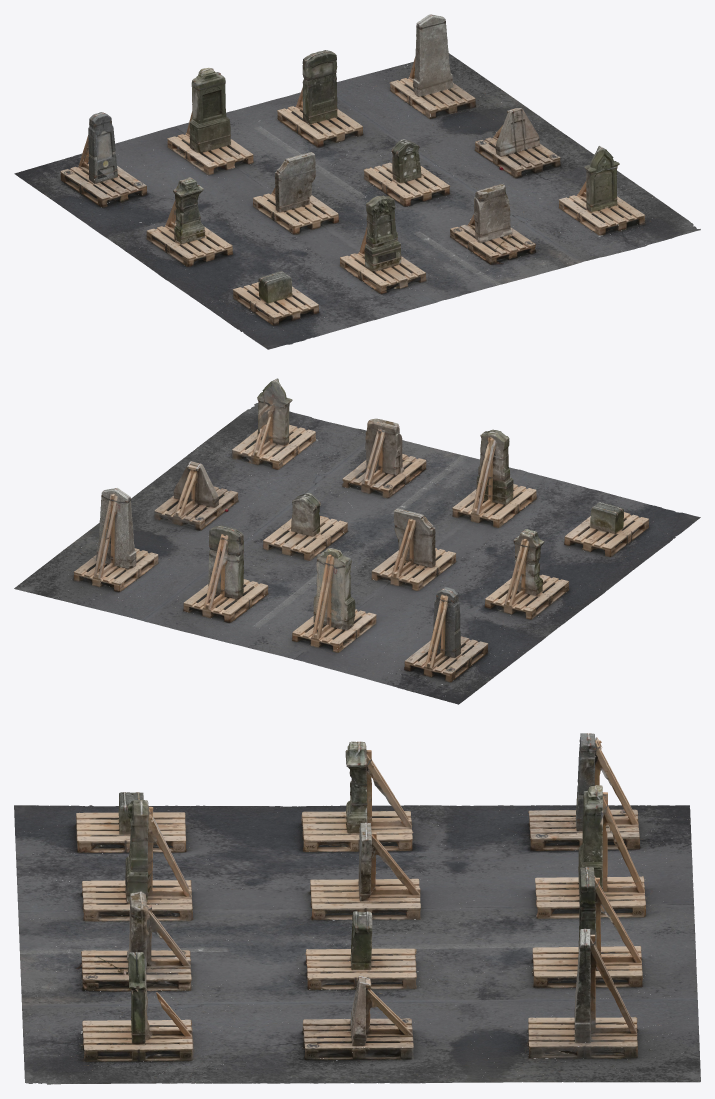
Rendered from sf-the-street-cemetery-055b00.glb.
The picture shows the model from 3 angles, top to bottom: view 1: azimuth 30°, elevation 25°; view 2: azimuth 150°, elevation 25°; view 3: azimuth 270°, elevation 25°; orthographic projection. The views are drawn at different scales.
Parts seen in each view (by area): view 1: Model_material0_0, Model_material1_0, Model_material2_0; view 2: Model_material0_0, Model_material1_0, Model_material2_0; view 3: Model_material0_0, Model_material2_0, Model_material1_0.
Part boxes in pixels (<box>): Model_material0_0: <box>36,54,675,338</box>; Model_material1_0: <box>60,14,653,349</box>; Model_material2_0: <box>14,21,700,320</box>; Model_material0_0: <box>48,378,672,698</box>; Model_material1_0: <box>65,423,700,685</box>; Model_material2_0: <box>14,403,648,704</box>; Model_material0_0: <box>15,733,699,1083</box>; Model_material2_0: <box>16,733,700,1084</box>; Model_material1_0: <box>14,742,698,1083</box>.
Size of the model in its own units: 8.35 by 1.69 by 8.17.
Materials: 3 (3 with a texture image).
